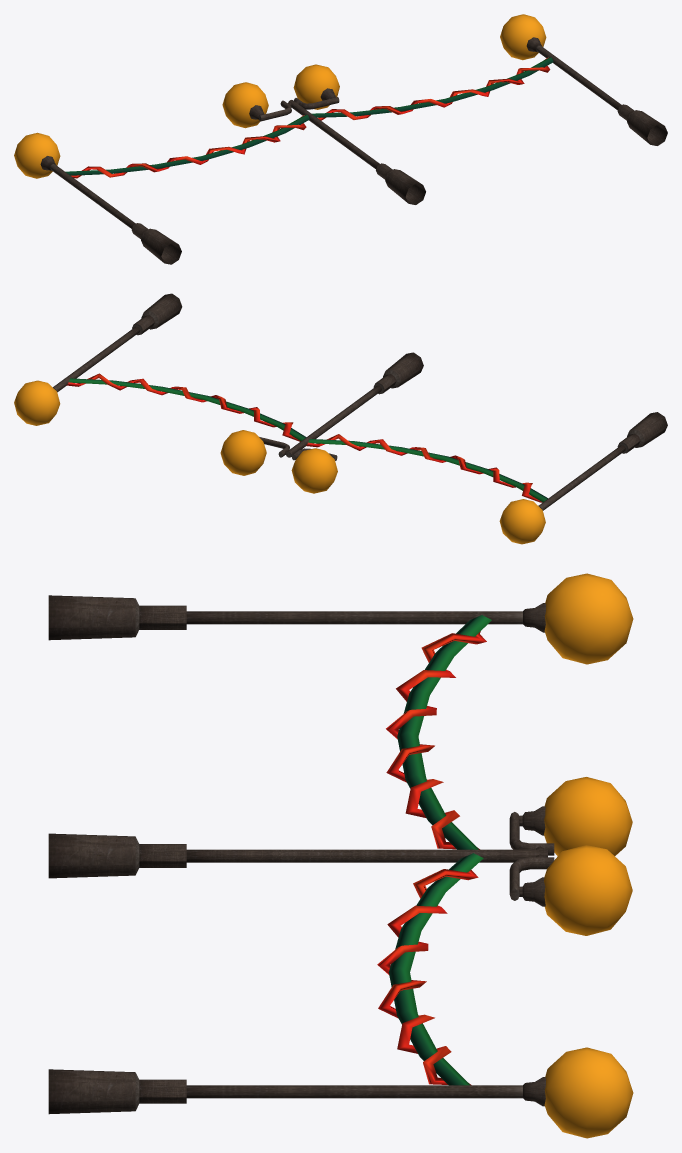
File: StreetLight_Garland_D.fbx
3 renders of one model, top to bottom at view 1: azimuth 30°, elevation 25°; view 2: azimuth 150°, elevation 25°; view 3: azimuth 270°, elevation 25°, orthographic. The views are drawn at different scales.
Visible parts, largest first — view 1: StreetLight_Garland_D; view 2: StreetLight_Garland_D; view 3: StreetLight_Garland_D.
Part boxes in pixels (box(x1,y1,x2,y2)): StreetLight_Garland_D: box(14, 14, 667, 264); StreetLight_Garland_D: box(14, 293, 667, 544); StreetLight_Garland_D: box(48, 573, 633, 1138).
Size of the model in its own units: 157 by 12.23 by 75.96.
